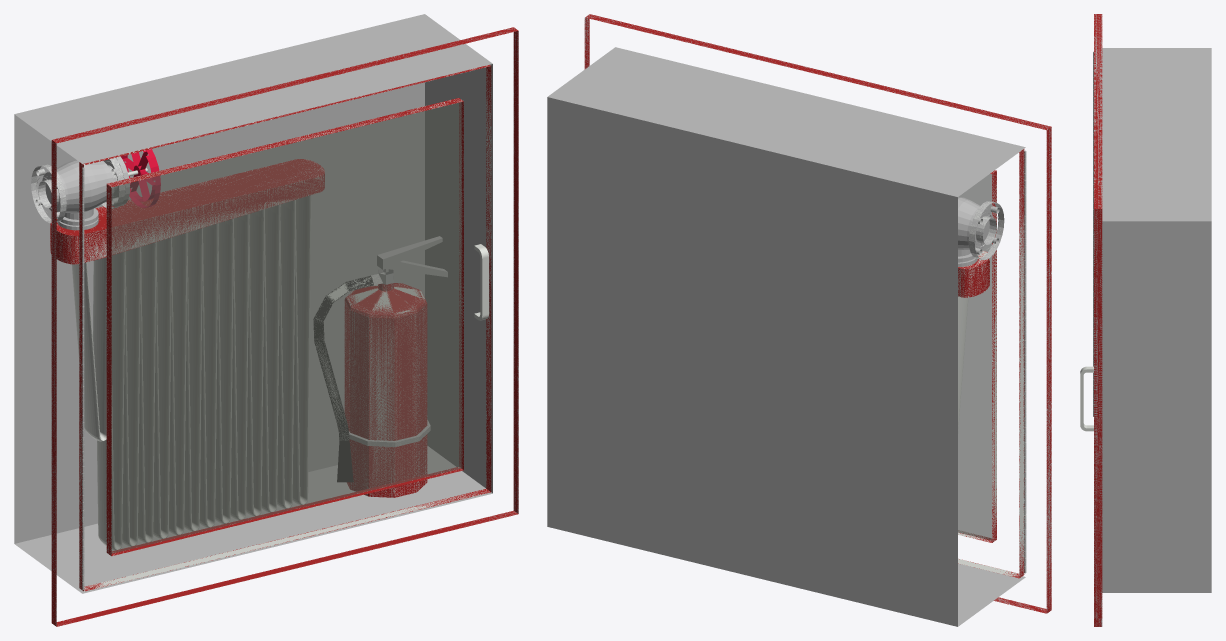
The model's file is Fire_Hose.dae.
3 renders of one model, left to right at view 1: azimuth 30°, elevation 25°; view 2: azimuth 150°, elevation 25°; view 3: azimuth 270°, elevation 25°, orthographic. The views are drawn at different scales.
Parts seen in each view (by area): view 1: group_1 (×3), group_0 (×2), group_16, Fire_Extinguisher_1 (×2), group_17, group_10, group_9, group_13, group_18, group_2, _3_inch_150_rfso; view 2: group_0 (×2), group_1 (×3), group_17, group_10, group_16, _3_inch_150_rfso; view 3: group_0 (×2), group_2.
Boxes of the visible parts, x1,y1,x2,y2 form: group_1 (×3): [79, 65, 491, 591]; group_0 (×2): [14, 14, 518, 626]; group_16: [71, 195, 310, 550]; Fire_Extinguisher_1 (×2): [313, 276, 427, 497]; group_17: [50, 159, 324, 264]; group_10: [42, 161, 91, 213]; group_9: [73, 160, 113, 211]; group_13: [122, 150, 155, 201]; group_18: [377, 236, 442, 269]; group_2: [474, 244, 488, 320]; _3_inch_150_rfso: [31, 164, 66, 223]; group_0 (×2): [547, 14, 1051, 626]; group_1 (×3): [958, 149, 1024, 578]; group_17: [958, 250, 989, 297]; group_10: [958, 197, 993, 249]; group_16: [958, 296, 968, 433]; _3_inch_150_rfso: [968, 201, 1004, 259]; group_0 (×2): [1094, 14, 1211, 626]; group_2: [1080, 366, 1093, 431].
Size of the model in its own units: 33.75 by 9.62 by 33.75.
